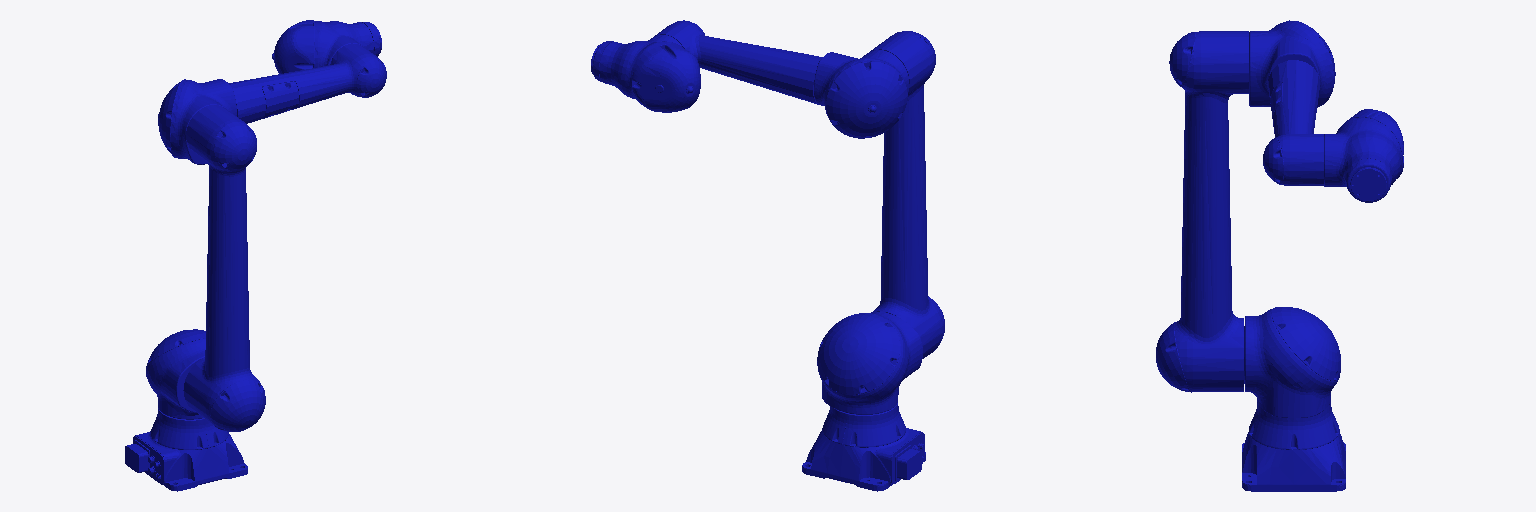
robot.urdf — motoman_hc10:
<?xml version="1.0" ?>
<!-- =================================================================================== -->
<!-- |    This document was autogenerated by xacro from [local-path]/0-Repos/GEM/gem_ws/src/model_description/yaskawa_hc10/urdf/hc10.xacro | -->
<!-- |    EDITING THIS FILE BY HAND IS NOT RECOMMENDED                                 | -->
<!-- =================================================================================== -->
<robot name="motoman_hc10" xmlns:controller="http://playerstage.sourceforge.net/gazebo/xmlschema/#controller" xmlns:interface="http://playerstage.sourceforge.net/gazebo/xmlschema/#interface" xmlns:sensor="http://playerstage.sourceforge.net/gazebo/xmlschema/#sensor">
    <!-- Joint controller -->
    <gazebo>
        <plugin filename="libgazebo_ros_control.so" name="gazebo_ros_control">
            <robotNamespace>/</robotNamespace>
        </plugin>
    </gazebo>
    <!-- link list -->
    <link name="base_link">
        <visual>
            <geometry>
                <mesh filename="package://motoman_hc10_support/meshes/hc10/visual/base_link.dae" />
            </geometry>
            <material name="">
                <color rgba="0.12941176470588237 0.14901960784313725 0.7490196078431373 1.0" />
            </material>
        </visual>
        <collision>
            <geometry>
                <mesh filename="package://motoman_hc10_support/meshes/hc10/collision/base_link.stl" />
            </geometry>
        </collision>
        <inertial>
            <mass value="8" />
            <origin rpy="0 0 0" xyz="0 0 0" />
            <inertia ixx="1.0" ixy="0.0" ixz="0.0" iyy="1.0" iyz="0.0" izz="1.0" />
        </inertial>
    </link>
    <link name="link_1_s">
        <visual>
            <geometry>
                <mesh filename="package://motoman_hc10_support/meshes/hc10/visual/link_1_s.dae" />
            </geometry>
            <material name="">
                <color rgba="0.12941176470588237 0.14901960784313725 0.7490196078431373 1.0" />
            </material>
        </visual>
        <collision>
            <geometry>
                <mesh filename="package://motoman_hc10_support/meshes/hc10/collision/link_1_s.stl" />
            </geometry>
        </collision>
        <inertial>
            <mass value="14" />
            <origin rpy="0 0 0" xyz="0 0 0" />
            <inertia ixx="1.0" ixy="0.0" ixz="0.0" iyy="1.0" iyz="0.0" izz="1.0" />
        </inertial>
    </link>
    <link name="link_2_l">
        <visual>
            <geometry>
                <mesh filename="package://motoman_hc10_support/meshes/hc10/visual/link_2_l.dae" />
            </geometry>
            <material name="">
                <color rgba="0.12941176470588237 0.14901960784313725 0.7490196078431373 1.0" />
            </material>
        </visual>
        <collision>
            <geometry>
                <mesh filename="package://motoman_hc10_support/meshes/hc10/collision/link_2_l.stl" />
            </geometry>
        </collision>
        <inertial>
            <mass value="15" />
            <origin rpy="0 0 0" xyz="0 0 0" />
            <inertia ixx="1.0" ixy="0.0" ixz="0.0" iyy="1.0" iyz="0.0" izz="1.0" />
        </inertial>
    </link>
    <link name="link_3_u">
        <visual>
            <geometry>
                <mesh filename="package://motoman_hc10_support/meshes/hc10/visual/link_3_u.dae" />
            </geometry>
            <material name="">
                <color rgba="0.12941176470588237 0.14901960784313725 0.7490196078431373 1.0" />
            </material>
        </visual>
        <collision>
            <geometry>
                <mesh filename="package://motoman_hc10_support/meshes/hc10/collision/link_3_u.stl" />
            </geometry>
        </collision>
        <inertial>
            <mass value="8" />
            <origin rpy="0 0 0" xyz="0 0 0" />
            <inertia ixx="1.0" ixy="0.0" ixz="0.0" iyy="1.0" iyz="0.0" izz="1.0" />
        </inertial>
    </link>
    <link name="link_4_r">
        <visual>
            <geometry>
                <mesh filename="package://motoman_hc10_support/meshes/hc10/visual/link_4_r.dae" />
            </geometry>
            <material name="">
                <color rgba="0.12941176470588237 0.14901960784313725 0.7490196078431373 1.0" />
            </material>
        </visual>
        <collision>
            <geometry>
                <mesh filename="package://motoman_hc10_support/meshes/hc10/collision/link_4_r.stl" />
            </geometry>
        </collision>
        <inertial>
            <mass value="5" />
            <origin rpy="0 0 0" xyz="0 0 0" />
            <inertia ixx="1.0" ixy="0.0" ixz="0.0" iyy="1.0" iyz="0.0" izz="1.0" />
        </inertial>
    </link>
    <link name="link_5_b">
        <visual>
            <geometry>
                <mesh filename="package://motoman_hc10_support/meshes/hc10/visual/link_5_b.dae" />
            </geometry>
            <material name="">
                <color rgba="0.12941176470588237 0.14901960784313725 0.7490196078431373 1.0" />
            </material>
        </visual>
        <collision>
            <geometry>
                <mesh filename="package://motoman_hc10_support/meshes/hc10/collision/link_5_b.stl" />
            </geometry>
        </collision>
        <inertial>
            <mass value="6" />
            <origin rpy="0 0 0" xyz="0 0 0" />
            <inertia ixx="1.0" ixy="0.0" ixz="0.0" iyy="1.0" iyz="0.0" izz="1.0" />
        </inertial>
    </link>
    <link name="link_6_t">
        <visual>
            <geometry>
                <mesh filename="package://motoman_hc10_support/meshes/hc10dt/visual/link_6_t.dae" />
            </geometry>
            <material name="">
                <color rgba="0.12941176470588237 0.14901960784313725 0.7490196078431373 1.0" />
            </material>
        </visual>
        <collision>
            <geometry>
                <mesh filename="package://motoman_hc10_support/meshes/hc10dt/collision/link_6_t.stl" />
            </geometry>
        </collision>
        <inertial>
            <mass value="2" />
            <origin rpy="0 0 0" xyz="0 0 0" />
            <inertia ixx="1.0" ixy="0.0" ixz="0.0" iyy="1.0" iyz="0.0" izz="1.0" />
        </inertial>
    </link>
    <!-- end of link list -->
    <!-- joint list -->
    <joint name="joint_1_s" type="revolute">
        <parent link="base_link" />
        <child link="link_1_s" />
        <origin rpy="0 0 0" xyz="0 0 0.275" />
        <axis xyz="0 0 1" />
        <limit effort="10000000" lower="-3.141592653589793" upper="3.141592653589793" velocity="2.2689280275926285" />
        <dynamics damping="0" friction="0" />
    </joint>
    <joint name="joint_2_l" type="revolute">
        <parent link="link_1_s" />
        <child link="link_2_l" />
        <origin rpy="0 0 0" xyz="0 0 0" />
        <axis xyz="0 1 0" />
        <limit effort="10000000" lower="-3.141592653589793" upper="3.141592653589793" velocity="2.2689280275926285" />
        <dynamics damping="1" friction="100" />
    </joint>
    <joint name="joint_3_u" type="revolute">
        <parent link="link_2_l" />
        <child link="link_3_u" />
        <origin rpy="0 -1.5707963267948966 0" xyz="0 0 0.700" />
        <axis xyz="0 -1 0" />
        <limit effort="10000000" lower="-3.141592653589793" upper="3.141592653589793" velocity="3.141592653589793" />
        <dynamics damping="1" friction="100" />
    </joint>
    <joint name="joint_4_r" type="revolute">
        <parent link="link_3_u" />
        <child link="link_4_r" />
        <origin rpy="0 0 0" xyz="0 0 -0.500" />
        <axis xyz="0 0 1" />
        <limit effort="10000000" lower="-3.141592653589793" upper="3.141592653589793" velocity="3.141592653589793" />
        <dynamics damping="1" friction="100" />
    </joint>
    <joint name="joint_5_b" type="revolute">
        <parent link="link_4_r" />
        <child link="link_5_b" />
        <origin rpy="0 0 0" xyz="0 0.162 0" />
        <axis xyz="0 -1 0" />
        <limit effort="10000000" lower="-3.141592653589793" upper="3.141592653589793" velocity="4.363323129985824" />
        <dynamics damping="1" friction="100" />
    </joint>
    <joint name="joint_6_t" type="revolute">
        <parent link="link_5_b" />
        <child link="link_6_t" />
        <origin rpy="0 0 0" xyz="0 0 0" />
        <axis xyz="0 0 1" />
        <limit effort="10000000" lower="-3.141592653589793" upper="3.141592653589793" velocity="4.363323129985824" />
        <dynamics damping="1" friction="100" />
    </joint>
    <!-- end of joint list -->
    <transmission name="joint_1_s_trans">
        <type>transmission_interface/SimpleTransmission</type>
        <joint name="joint_1_s">
            <hardwareInterface>hardware_interface/EffortJointInterface</hardwareInterface>
        </joint>
        <actuator name="joint_1_s_motor">
            <mechanicalReduction>10</mechanicalReduction>
            <hardwareInterface>hardware_interface/EffortJointInterface</hardwareInterface>
        </actuator>
    </transmission>
    <transmission name="joint_2_l_trans">
        <type>transmission_interface/SimpleTransmission</type>
        <joint name="joint_2_l">
            <hardwareInterface>hardware_interface/EffortJointInterface</hardwareInterface>
        </joint>
        <actuator name="joint_2_l_motor">
            <mechanicalReduction>10</mechanicalReduction>
            <hardwareInterface>hardware_interface/EffortJointInterface</hardwareInterface>
        </actuator>
    </transmission>
    <transmission name="joint_3_u_trans">
        <type>transmission_interface/SimpleTransmission</type>
        <joint name="joint_3_u">
            <hardwareInterface>hardware_interface/EffortJointInterface</hardwareInterface>
        </joint>
        <actuator name="joint_3_u_motor">
            <mechanicalReduction>10</mechanicalReduction>
            <hardwareInterface>hardware_interface/EffortJointInterface</hardwareInterface>
        </actuator>
    </transmission>
    <transmission name="joint_4_r_trans">
        <type>transmission_interface/SimpleTransmission</type>
        <joint name="joint_4_r">
            <hardwareInterface>hardware_interface/EffortJointInterface</hardwareInterface>
        </joint>
        <actuator name="joint_4_r_motor">
            <mechanicalReduction>10</mechanicalReduction>
            <hardwareInterface>hardware_interface/EffortJointInterface</hardwareInterface>
        </actuator>
    </transmission>
    <transmission name="joint_5_b_trans">
        <type>transmission_interface/SimpleTransmission</type>
        <joint name="joint_5_b">
            <hardwareInterface>hardware_interface/EffortJointInterface</hardwareInterface>
        </joint>
        <actuator name="joint_5_b_motor">
            <mechanicalReduction>10</mechanicalReduction>
            <hardwareInterface>hardware_interface/EffortJointInterface</hardwareInterface>
        </actuator>
    </transmission>
    <transmission name="joint_6_t_trans">
        <type>transmission_interface/SimpleTransmission</type>
        <joint name="joint_6_t">
            <hardwareInterface>hardware_interface/EffortJointInterface</hardwareInterface>
        </joint>
        <actuator name="joint_6_t_motor">
            <mechanicalReduction>10</mechanicalReduction>
            <hardwareInterface>hardware_interface/EffortJointInterface</hardwareInterface>
        </actuator>
    </transmission>
    <!-- end of joint controller list -->
    <!-- ROS base_link to Robot Manufacturer World Coordinates transform -->
    <link name="base" />
    <joint name="base_link-base" type="fixed">
        <origin rpy="0 0 0" xyz="0 0 0.275" />
        <parent link="base_link" />
        <child link="base" />
    </joint>
    <gazebo reference="base_link">
        <gravity>0</gravity>
    </gazebo>
    <gazebo reference="link_1_s">
        <gravity>0</gravity>
    </gazebo>
    <gazebo reference="link_2_l">
        <gravity>0</gravity>
    </gazebo>
    <gazebo reference="{prefix}link_3_u">
        <gravity>0</gravity>
    </gazebo>
    <gazebo reference="{prefix}link_4_r">
        <gravity>0</gravity>
    </gazebo>
    <gazebo reference="link_5_b">
        <gravity>0</gravity>
    </gazebo>
    <gazebo reference="link_6_t">
        <gravity>0</gravity>
    </gazebo>
    <link name="world" />
    <joint name="fixed" type="fixed">
        <parent link="world" />
        <child link="base_link" />
    </joint>
</robot>

--- What the picture shows (computed from the rendered views, not written in the file) ---
Views: 3 orthographic renders of the robot side by side, from view 1: azimuth 30°, elevation 25°; view 2: azimuth 150°, elevation 25°; view 3: azimuth 270°, elevation 25°.
Model motoman_hc10 with 9 links and 8 joints (6 revolute, 2 fixed), rooted at world, posed all joints at 0.
Visible links, largest first — view 1: link_2_l, base_link, link_4_r, link_5_b, link_1_s, link_3_u; view 2: link_2_l, link_1_s, base_link, link_3_u, link_5_b, link_4_r; view 3: link_2_l, link_1_s, base_link, link_4_r, link_3_u, link_5_b, link_6_t.
Boxes of the visible links, x1,y1,x2,y2 form: link_2_l: [183, 105, 265, 431]; base_link: [125, 409, 247, 491]; link_4_r: [229, 43, 386, 123]; link_5_b: [272, 20, 373, 73]; link_1_s: [146, 329, 205, 419]; link_3_u: [158, 79, 236, 164]; link_2_l: [870, 31, 944, 358]; link_1_s: [817, 312, 922, 414]; base_link: [802, 403, 925, 491]; link_3_u: [814, 50, 908, 138]; link_5_b: [599, 35, 700, 112]; link_4_r: [655, 20, 822, 104]; link_2_l: [1156, 31, 1248, 392]; link_1_s: [1244, 307, 1340, 417]; base_link: [1242, 402, 1345, 491]; link_4_r: [1263, 60, 1323, 185]; link_3_u: [1249, 20, 1335, 107]; link_5_b: [1324, 109, 1403, 186]; link_6_t: [1345, 158, 1391, 202].
Bounding box of the posed robot: 0.7821 × 0.5404 × 1.06 m (x, y, z).
7 mesh visuals loaded from 7 distinct referenced files (7 Collada DAE).
